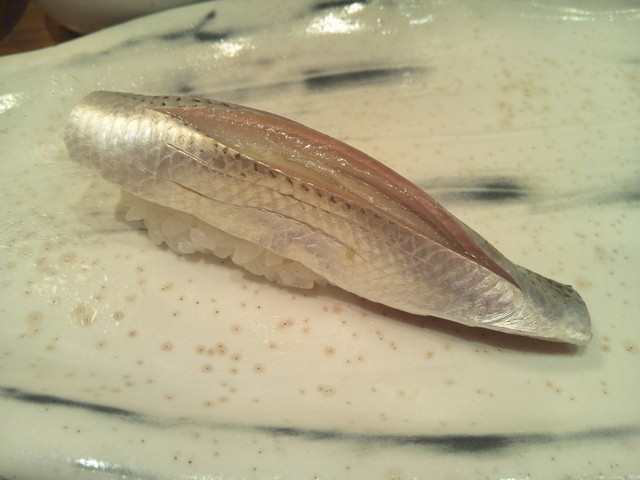spotted-shad: (64, 86, 594, 359)
